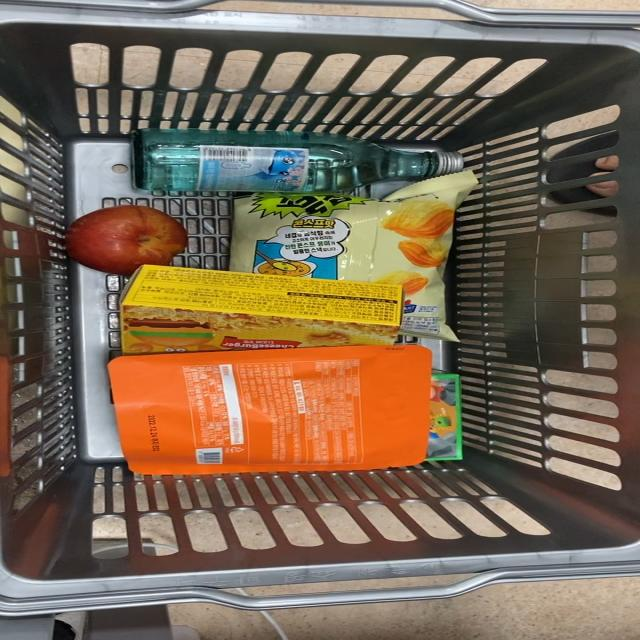cheesebagel: (94, 346, 434, 468)
ggobukchip: (216, 193, 460, 277)
jinro: (128, 128, 472, 192)
minicrab: (116, 266, 408, 349)
plum: (66, 204, 192, 274)
